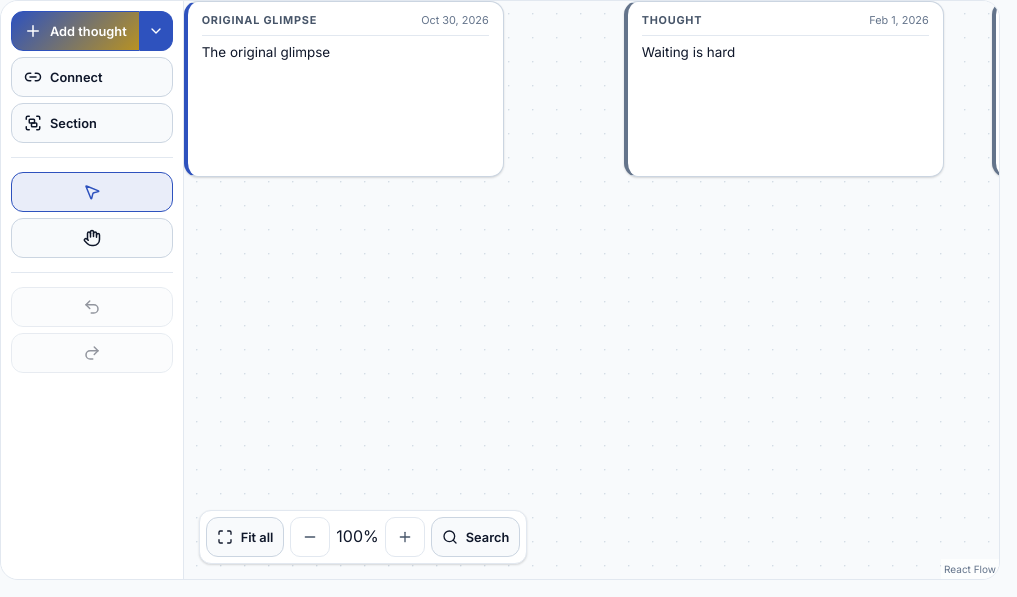
Scenario: selecting and editing › asks before deleting a thought, and the delete is undoable
Click the text "Waiting is hard". click: x=784, y=89
box: [624,1,944,177]
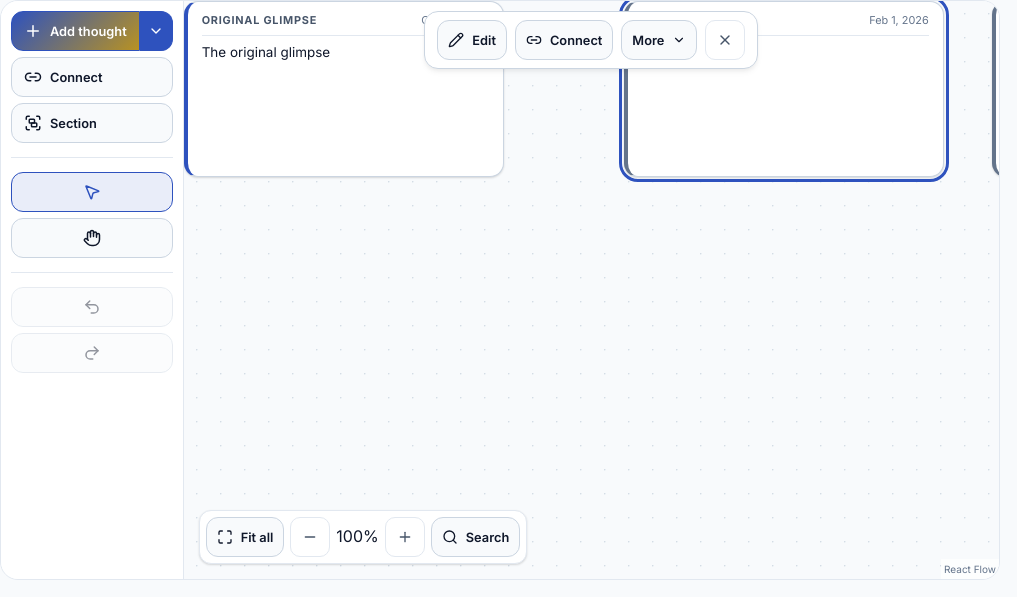
Press Delete in the text "Waiting is hard", box [624,1,944,177]
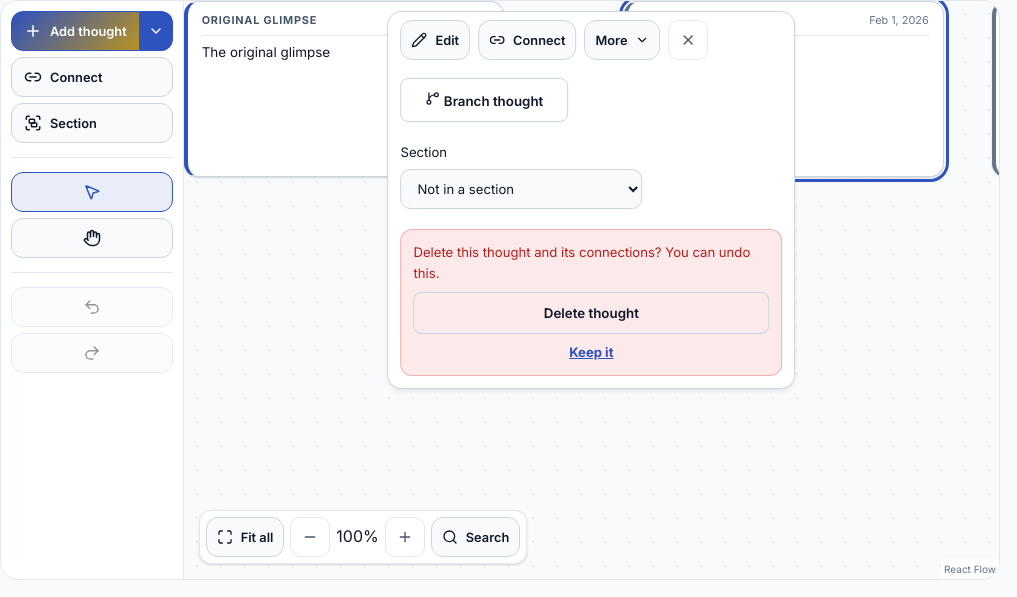
Click the button "Delete thought". click: x=591, y=313
box: [414,292,769,334]
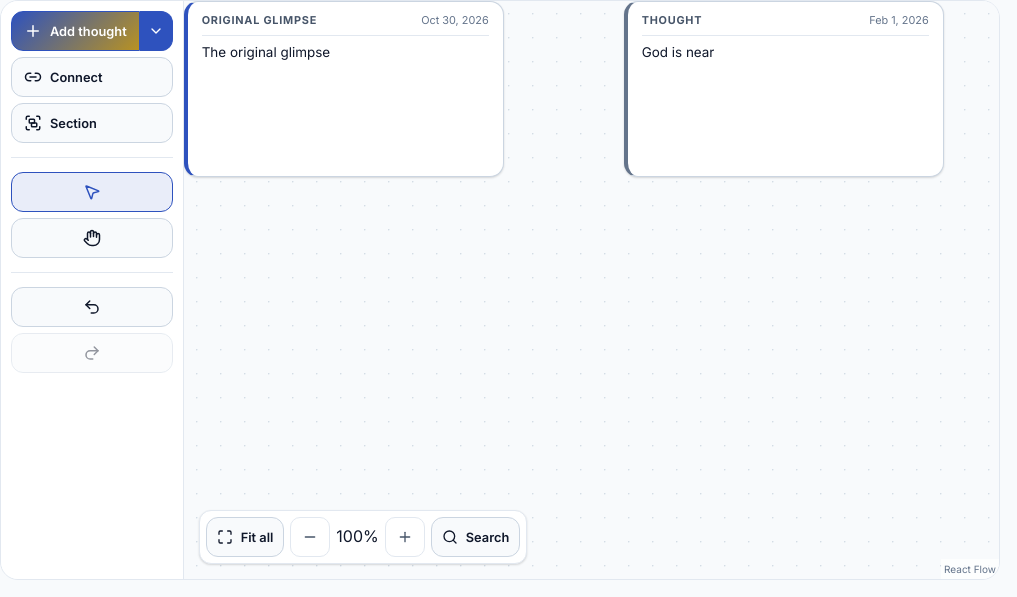
Result: the text "Waiting is hard" is gone
Click the button named "Undo". click: x=92, y=307
box: [11,287,173,327]
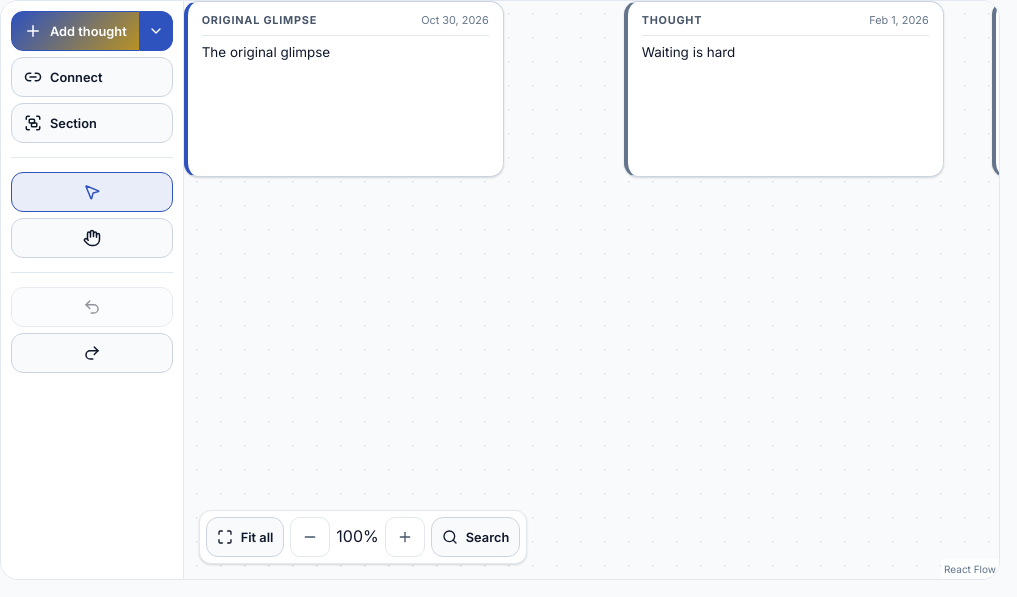
Result: the text "Waiting is hard" is shown at [642,44,735,60]
